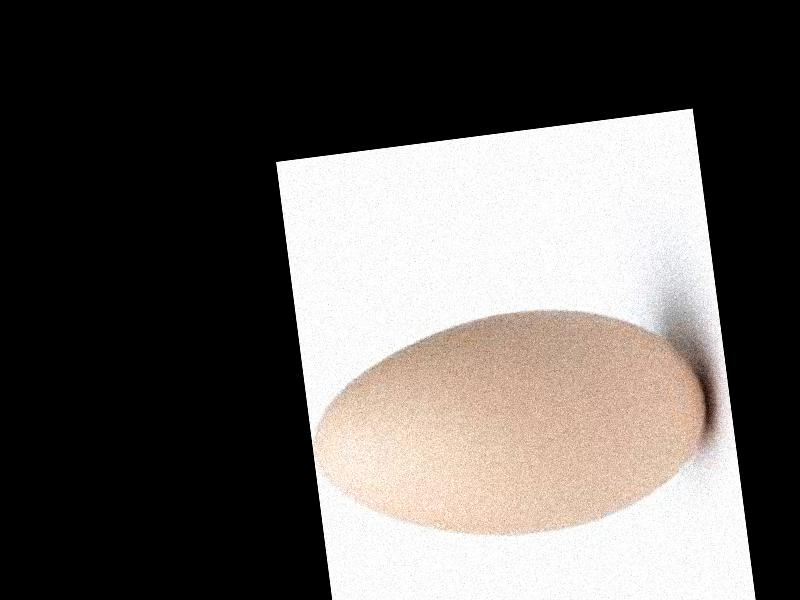Eggs: (301, 289, 724, 559)
